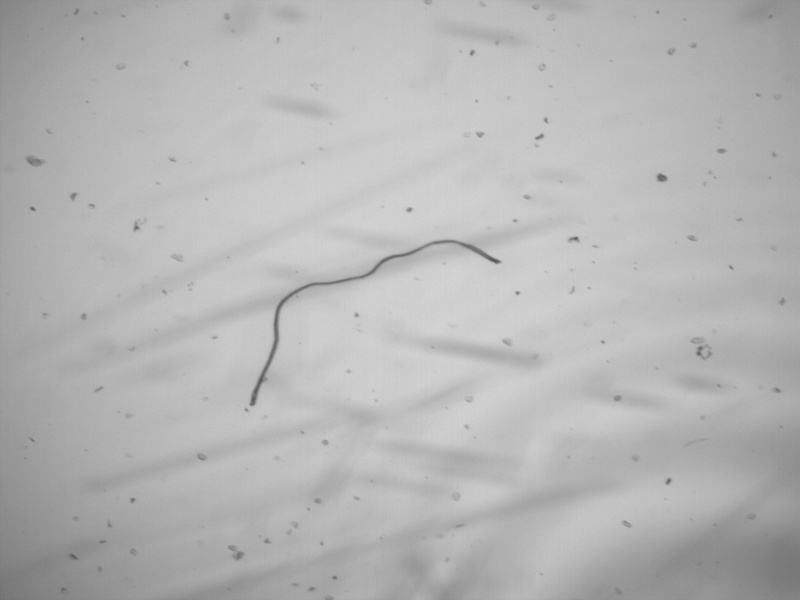fiber: (248, 235, 507, 408)
